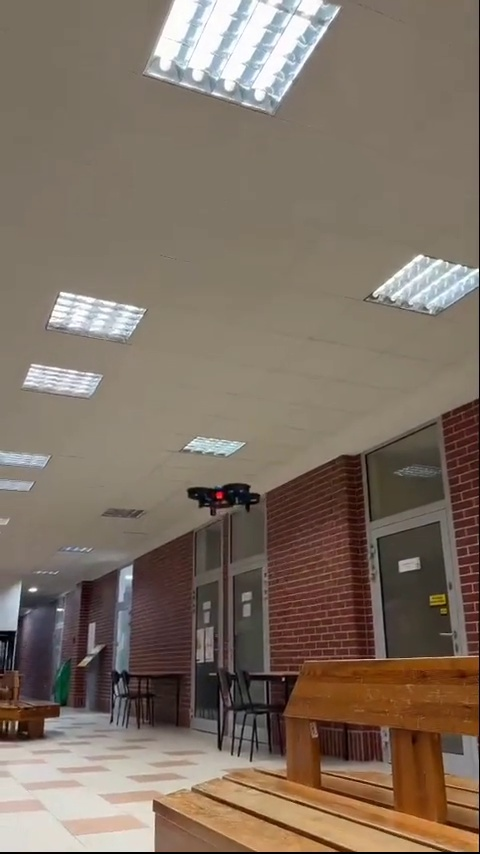drone: (186, 479, 265, 514)
